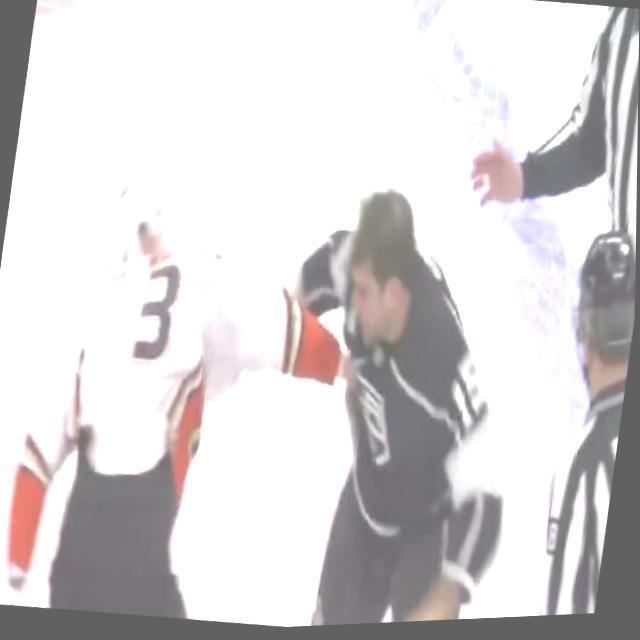fight: (70, 130, 564, 638), (0, 113, 463, 640)
